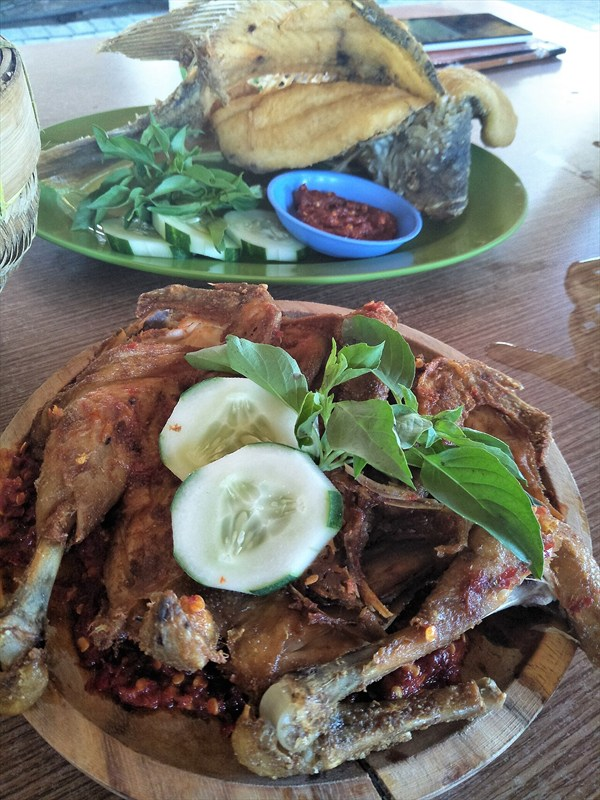Ayam Goreng: (91, 52, 535, 721)
